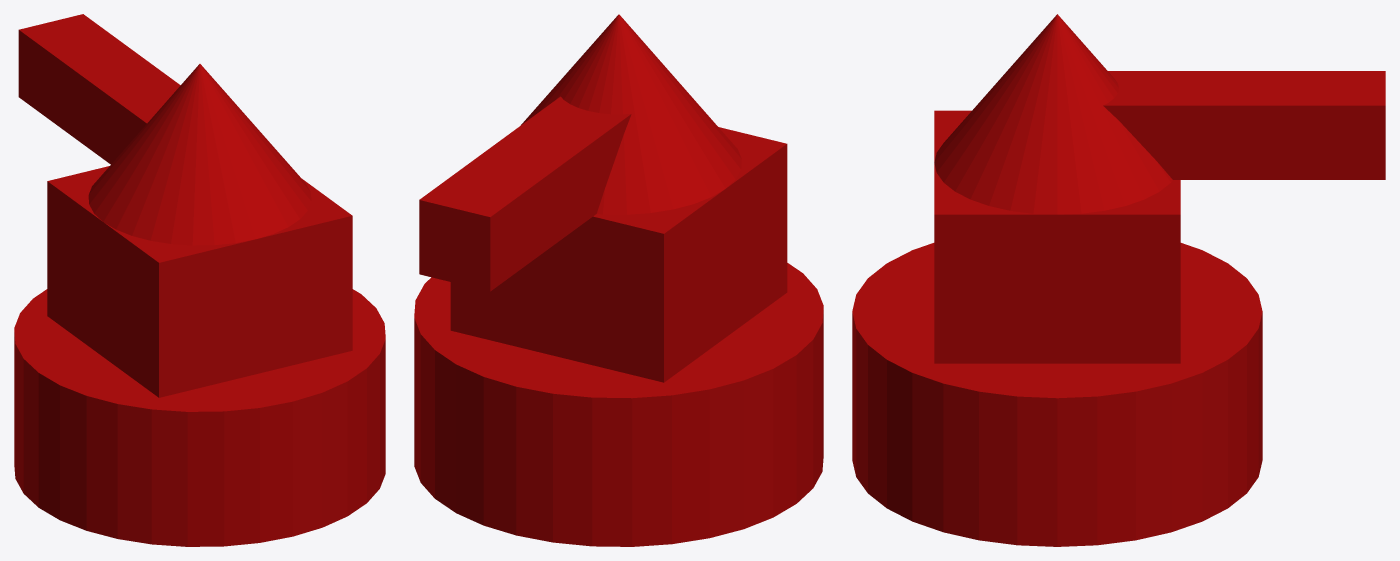
The model's file is enemytypeAbehit.obj.
The picture shows the model from 3 angles, left to right: view 1: azimuth 30°, elevation 25°; view 2: azimuth 150°, elevation 25°; view 3: azimuth 270°, elevation 25°; orthographic projection. The views are drawn at different scales.
Parts seen in each view (by area): view 1: 圓柱體, 立方體, 圓錐體, 立方體.001; view 2: 圓柱體, 立方體, 立方體.001, 圓錐體; view 3: 圓柱體, 立方體, 立方體.001, 圓錐體.
Part boxes in pixels (x1=…): 圓柱體: x1=14, y1=289, x2=385, y2=546; 立方體: x1=47, y1=166, x2=352, y2=397; 圓錐體: x1=88, y1=64, x2=311, y2=245; 立方體.001: x1=18, y1=14, x2=180, y2=164; 圓柱體: x1=414, y1=263, x2=823, y2=546; 立方體: x1=450, y1=127, x2=787, y2=382; 立方體.001: x1=419, y1=96, x2=631, y2=291; 圓錐體: x1=521, y1=14, x2=741, y2=214; 圓柱體: x1=852, y1=243, x2=1262, y2=546; 立方體: x1=934, y1=110, x2=1180, y2=363; 立方體.001: x1=1103, y1=71, x2=1385, y2=179; 圓錐體: x1=934, y1=14, x2=1172, y2=214.
Size of the model in its own units: 5 by 6 by 6.5.
Materials: 4 (4 with a texture image).
